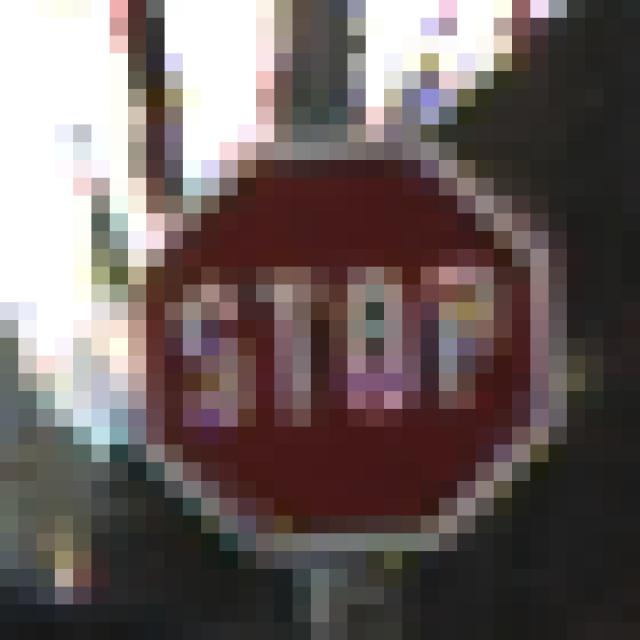STOP: (111, 108, 550, 534)
